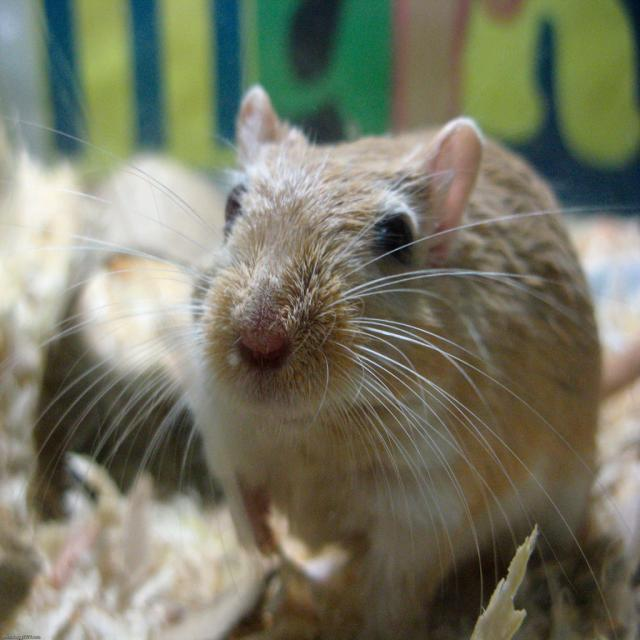rat: (14, 81, 602, 640)
